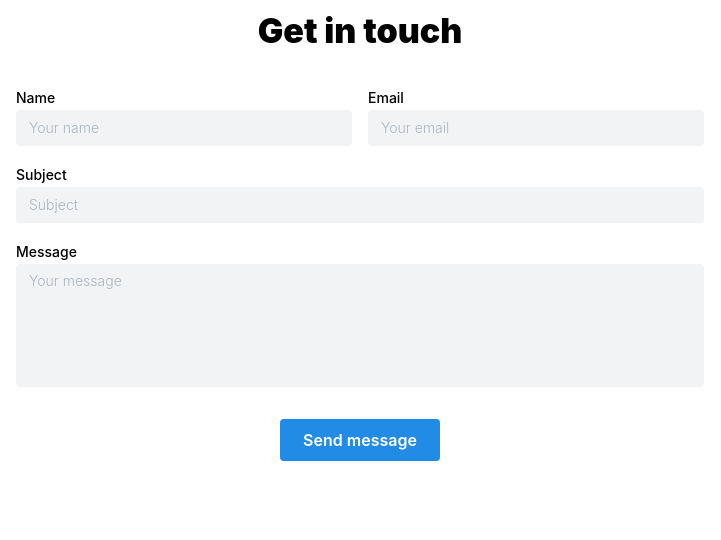
Test case: Contact form — validation › shows an error when subject is blank
Click the button "Send message". click: (360, 440)
box: [280,419,440,461]
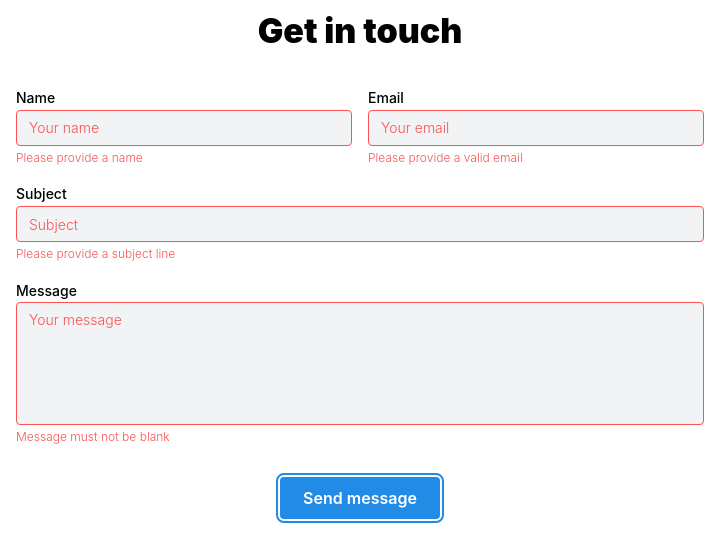
Expected: the text "Please provide a subject line" is shown, [16,246,175,261]
